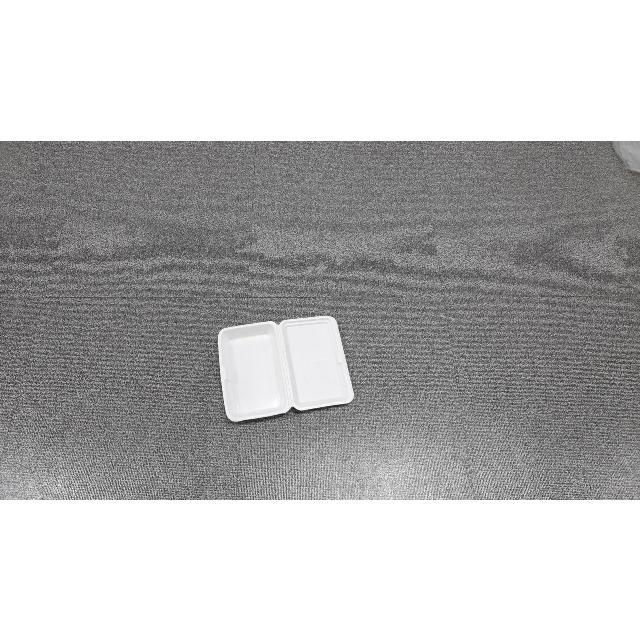Recipiente plastico: (218, 318, 354, 422)
